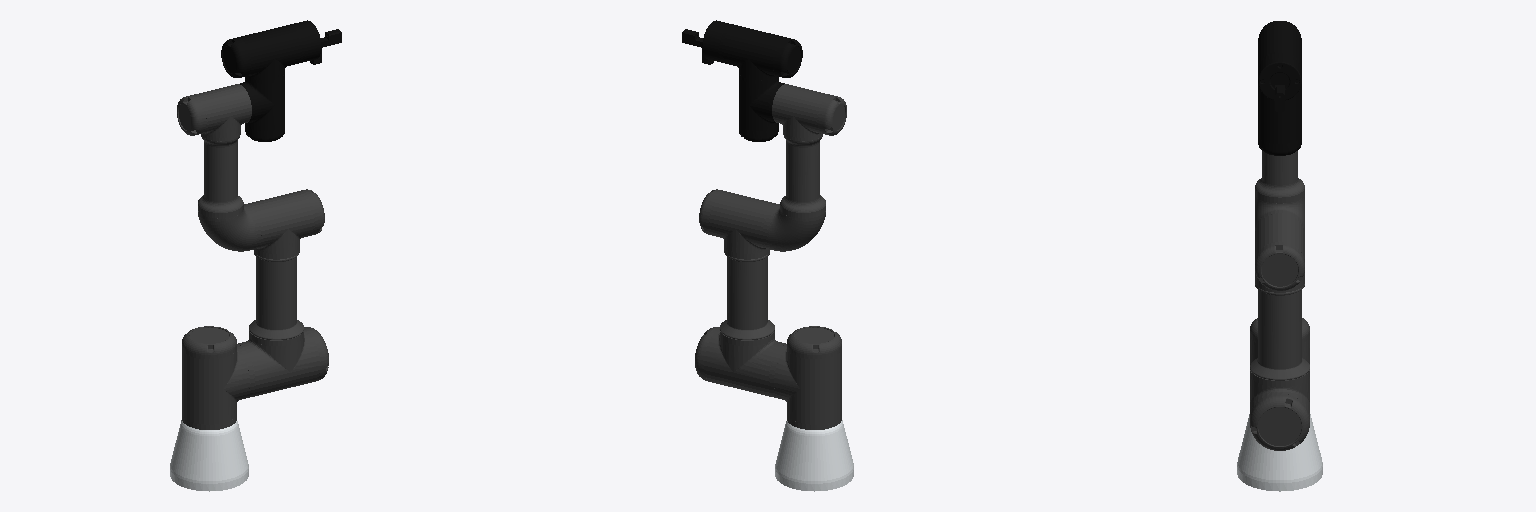
The robot description file, URDF, robot "car_spraying_robot":
<?xml version="1.0" encoding="utf-8"?>
<!-- This URDF was automatically created by SolidWorks to URDF Exporter! Originally created by Stephen Brawner (brawner@gmail.com) 
     Commit Version: 1.6.0-4-g7f85cfe  Build Version: 1.6.7995.38578
     For more information, please see http://wiki.ros.org/sw_urdf_exporter -->
<robot
  name="car_spraying_robot">
  <link name="world"/>

  <joint name="world_joint" type="fixed">
    <parent link="world"/>
    <child link="base_link"/>
    <origin xyz="0 0 0" rpy="0 0 0"/>
  </joint>

  <link
    name="base_link">
    <inertial>
      <origin
        xyz="0 -4.44089209850063E-16 0.0475762493981301"
        rpy="0 0 0" />
      <mass
        value="2.65145043916468" />
      <inertia
        ixx="0.00437179269564763"
        ixy="-3.85185988877447E-34"
        ixz="-5.87786191511011E-23"
        iyy="0.00437179269564763"
        iyz="3.85148667524642E-19"
        izz="0.00438480872973141" />
    </inertial>
    <visual>
      <origin
        xyz="0 0 0"
        rpy="0 0 0" />
      <geometry>
        <mesh
          filename="package://car_spraying_robot/meshes/base_link.stl" />
      </geometry>
      <material
        name="">
        <color
          rgba="0.898039215686275 0.917647058823529 0.929411764705882 1" />
      </material>
    </visual>
    <collision>
      <origin
        xyz="0 0 0"
        rpy="0 0 0" />
      <geometry>
        <mesh
          filename="package://car_spraying_robot/meshes/base_link.stl" />
      </geometry>
    </collision>
  </link>
  <link
    name="link_1">
    <inertial>
      <origin
        xyz="0.00511358621544344 -4.48936976482628E-09 0.063179880887965"
        rpy="0 0 0" />
      <mass
        value="0.805998552978852" />
      <inertia
        ixx="0.00132065479666303"
        ixy="4.40619620491933E-10"
        ixz="-1.7219218437348E-05"
        iyy="0.00142111571223347"
        iyz="1.29400431944431E-10"
        izz="0.000966507308305541" />
    </inertial>
    <visual>
      <origin
        xyz="0 0 0"
        rpy="0 0 0" />
      <geometry>
        <mesh
          filename="package://car_spraying_robot/meshes/link_1.stl" />
      </geometry>
      <material
        name="">
        <color
          rgba="0.298039215686275 0.298039215686275 0.298039215686275 1" />
      </material>
    </visual>
    <collision>
      <origin
        xyz="0 0 0"
        rpy="0 0 0" />
      <geometry>
        <mesh
          filename="package://car_spraying_robot/meshes/link_1.stl" />
      </geometry>
    </collision>
  </link>
  <joint
    name="joint_0"
    type="revolute">
    <origin
      xyz="0 0 0.1058"
      rpy="0 0 0" />
    <parent
      link="base_link" />
    <child
      link="link_1" />
    <axis
      xyz="0 0 1" />
    <limit
      lower="-3.14"
      upper="3.14"
      effort="35.0"
      velocity="1.5" />
  </joint>
  <link
    name="link_2">
    <inertial>
      <origin
        xyz="4.25462332032112E-10 0.112619000509759 -0.0693119808542058"
        rpy="0 0 0" />
      <mass
        value="2.84556640407507" />
      <inertia
        ixx="0.0058537691504216"
        ixy="6.57818481496509E-10"
        ixz="-6.76159344004634E-11"
        iyy="0.00295686823260974"
        iyz="2.19320959807221E-05"
        izz="0.00509129838811714" />
    </inertial>
    <visual>
      <origin
        xyz="0 0 0"
        rpy="0 0 0" />
      <geometry>
        <mesh
          filename="package://car_spraying_robot/meshes/link_2.stl" />
      </geometry>
      <material
        name="">
        <color
          rgba="0.298039215686275 0.298039215686275 0.298039215686275 1" />
      </material>
    </visual>
    <collision>
      <origin
        xyz="0 0 0"
        rpy="0 0 0" />
      <geometry>
        <mesh
          filename="package://car_spraying_robot/meshes/link_2.stl" />
      </geometry>
    </collision>
  </link>
  <joint
    name="joint_1"
    type="revolute">
    <origin
      xyz="0.0550000000000006 0 0.0659999999999999"
      rpy="1.5707963267949 0 -1.5707963267949" />
    <parent
      link="link_1" />
    <child
      link="link_2" />
    <axis
      xyz="0 0 1" />
    <limit
      lower="-3.14"
      upper="3.14"
      effort="35.0"
      velocity="1.5" />
  </joint>
  <link
    name="link_3">
    <inertial>
      <origin
        xyz="0.115582187515874 3.75973963073761E-09 0.0478777808983519"
        rpy="0 0 0" />
      <mass
        value="1.5490639003481" />
      <inertia
        ixx="0.000906399541692758"
        ixy="5.94648013847451E-10"
        ixz="-5.89431715410645E-05"
        iyy="0.00231873788314177"
        iyz="1.83603569826544E-11"
        izz="0.002197605373301" />
    </inertial>
    <visual>
      <origin
        xyz="0 0 0"
        rpy="0 0 0" />
      <geometry>
        <mesh
          filename="package://car_spraying_robot/meshes/link_3.stl" />
      </geometry>
      <material
        name="">
        <color
          rgba="0.298039215686275 0.298039215686275 0.298039215686275 1" />
      </material>
    </visual>
    <collision>
      <origin
        xyz="0 0 0"
        rpy="0 0 0" />
      <geometry>
        <mesh
          filename="package://car_spraying_robot/meshes/link_3.stl" />
      </geometry>
    </collision>
  </link>
  <joint
    name="joint_2"
    type="revolute">
    <origin
      xyz="0 0.255 -0.0159999999999996"
      rpy="0 0 1.5707963267949" />
    <parent
      link="link_2" />
    <child
      link="link_3" />
    <axis
      xyz="0 0 1" />
    <limit
      lower="-3.14"
      upper="3.14"
      effort="10.0"
      velocity="2.0" />
  </joint>
  <link
    name="link_4">
    <inertial>
      <origin
        xyz="-0.00250614919525627 1.99867766781381E-09 0.0361958839037326"
        rpy="0 0 0" />
      <mass
        value="0.305924122484251" />
      <inertia
        ixx="0.000192561803762394"
        ixy="2.03197911773492E-11"
        ixz="1.28656207934014E-06"
        iyy="0.000281930007107716"
        iyz="6.74791302758906E-11"
        izz="0.000261214129591347" />
    </inertial>
    <visual>
      <origin
        xyz="0 0 0"
        rpy="0 0 0" />
      <geometry>
        <mesh
          filename="package://car_spraying_robot/meshes/link_4.stl" />
      </geometry>
      <material
        name="">
        <color
          rgba="0.101960784313725 0.101960784313725 0.101960784313725 1" />
      </material>
    </visual>
    <collision>
      <origin
        xyz="0 0 0"
        rpy="0 0 0" />
      <geometry>
        <mesh
          filename="package://car_spraying_robot/meshes/link_4.stl" />
      </geometry>
    </collision>
  </link>
  <joint
    name="joint_3"
    type="revolute">
    <origin
      xyz="0.2245 0 0.00700000000000012"
      rpy="-3.14159265358979 0 0" />
    <parent
      link="link_3" />
    <child
      link="link_4" />
    <axis
      xyz="0 0 1" />
    <limit
      lower="-3.14"
      upper="3.14"
      effort="10.0"
      velocity="2.0" />
  </joint>
  <link
    name="link_5">
    <inertial>
      <origin
        xyz="-3.05390690513718E-09 0.00190124611504094 0.0365748109896381"
        rpy="0 0 0" />
      <mass
        value="0.335457056920106" />
      <inertia
        ixx="0.000353929483232228"
        ixy="-2.6343744776887E-11"
        ixz="-9.17112572782522E-11"
        iyy="0.000208608865865198"
        iyz="-4.05767367042031E-06"
        izz="0.000332763624687152" />
    </inertial>
    <visual>
      <origin
        xyz="0 0 0"
        rpy="0 0 0" />
      <geometry>
        <mesh
          filename="package://car_spraying_robot/meshes/link_5.stl" />
      </geometry>
      <material
        name="">
        <color
          rgba="0.101960784313725 0.101960784313725 0.101960784313725 1" />
      </material>
    </visual>
    <collision>
      <origin
        xyz="0 0 0"
        rpy="0 0 0" />
      <geometry>
        <mesh
          filename="package://car_spraying_robot/meshes/link_5.stl" />
      </geometry>
    </collision>
  </link>
  <joint
    name="joint_4"
    type="revolute">
    <origin
      xyz="0.043 0 0.0405000000000002"
      rpy="1.5707963267949 0 1.5707963267949" />
    <parent
      link="link_4" />
    <child
      link="link_5" />
    <axis
      xyz="0 0 1" />
    <limit
      lower="-3.14"
      upper="3.14"
      effort="10.0"
      velocity="2.0" />
  </joint>
  <link
    name="link_6">
    <inertial>
      <origin
        xyz="-3.10862446895044E-15 0.000719085206381309 0.0190838617713358"
        rpy="0 0 0" />
      <mass
        value="0.320196673344857" />
      <inertia
        ixx="0.00011646073524573"
        ixy="3.244441283633E-20"
        ixz="-5.9770531959501E-20"
        iyy="0.000114323636606439"
        iyz="2.12683072758443E-06"
        izz="0.000164254132094859" />
    </inertial>
    <visual>
      <origin
        xyz="0 0 0"
        rpy="0 0 0" />
      <geometry>
        <mesh
          filename="package://car_spraying_robot/meshes/link_6.stl" />
      </geometry>
      <material
        name="">
        <color
          rgba="0.101960784313725 0.101960784313725 0.101960784313725 1" />
      </material>
    </visual>
    <collision>
      <origin
        xyz="0 0 0"
        rpy="0 0 0" />
      <geometry>
        <mesh
          filename="package://car_spraying_robot/meshes/link_6.stl" />
      </geometry>
    </collision>
  </link>
  <joint
    name="joint_5"
    type="revolute">
    <origin
      xyz="0 0.0530000000000008 0.0404999999999998"
      rpy="-1.5707963267949 0 0" />
    <parent
      link="link_5" />
    <child
      link="link_6" />
    <axis
      xyz="0 0 -1" />
    <limit
      lower="-3.14"
      upper="3.14"
      effort="10.0"
      velocity="2.0" />
  </joint>
  
  <ros2_control name="GazeboSystem" type="system">
    <hardware>
      <plugin>gz_ros2_control/GazeboSimSystem</plugin>
    </hardware>
    <joint name="joint_0">
      <command_interface name="position" />
      <state_interface name="position" />
      <state_interface name="velocity" />
    </joint>
    <joint name="joint_1">
      <command_interface name="position" />
      <state_interface name="position" />
      <state_interface name="velocity" />
    </joint>
    <joint name="joint_2">
      <command_interface name="position" />
      <state_interface name="position" />
      <state_interface name="velocity" />
    </joint>
    <joint name="joint_3">
      <command_interface name="position" />
      <state_interface name="position" />
      <state_interface name="velocity" />
    </joint>
    <joint name="joint_4">
      <command_interface name="position" />
      <state_interface name="position" />
      <state_interface name="velocity" />
    </joint>
    <joint name="joint_5">
      <command_interface name="position" />
      <state_interface name="position" />
      <state_interface name="velocity" />
    </joint>
  </ros2_control>
<!-- 
  <gazebo>
    <plugin filename="gz_ros2_control-system" name="gz_ros2_control::GazeboSimSystem">
      <parameters>$(find car_spraying_moveit_config)/config/ros2_controllers.yaml</parameters>
    </plugin>
  </gazebo> -->
</robot>

--- What the picture shows (computed from the rendered views, not written in the file) ---
Views: 3 orthographic renders of the robot side by side, from view 1: azimuth 30°, elevation 25°; view 2: azimuth 150°, elevation 25°; view 3: azimuth 270°, elevation 25°.
Model car_spraying_robot with 8 links and 7 joints (6 revolute, 1 fixed), rooted at world, posed all joints at 0.
Visible links, largest first — view 1: link_2, link_3, link_1, base_link, link_5, link_4, link_6; view 2: link_2, link_3, link_1, base_link, link_5, link_4, link_6; view 3: link_2, base_link, link_3, link_4, link_6, link_5, link_1.
Boxes of the visible links, x1,y1,x2,y2 form: link_2: [237, 189, 328, 398]; link_3: [177, 84, 255, 251]; link_1: [182, 326, 249, 429]; base_link: [170, 420, 248, 491]; link_5: [221, 25, 301, 83]; link_4: [240, 77, 284, 141]; link_6: [290, 20, 341, 64]; link_2: [695, 189, 786, 398]; link_3: [768, 84, 846, 251]; link_1: [774, 326, 841, 429]; base_link: [775, 420, 853, 491]; link_5: [722, 25, 802, 83]; link_4: [739, 77, 784, 141]; link_6: [682, 20, 733, 64]; link_2: [1250, 210, 1309, 450]; base_link: [1237, 414, 1322, 491]; link_3: [1255, 151, 1304, 227]; link_4: [1258, 85, 1301, 155]; link_6: [1258, 52, 1301, 111]; link_5: [1258, 21, 1301, 84]; link_1: [1250, 318, 1309, 363].
Bounding box of the posed robot: 0.3085 × 0.128 × 0.7673 m (x, y, z).
Meshes: 7 distinct files referenced, 7 mesh visuals loaded (7 binary STL).
